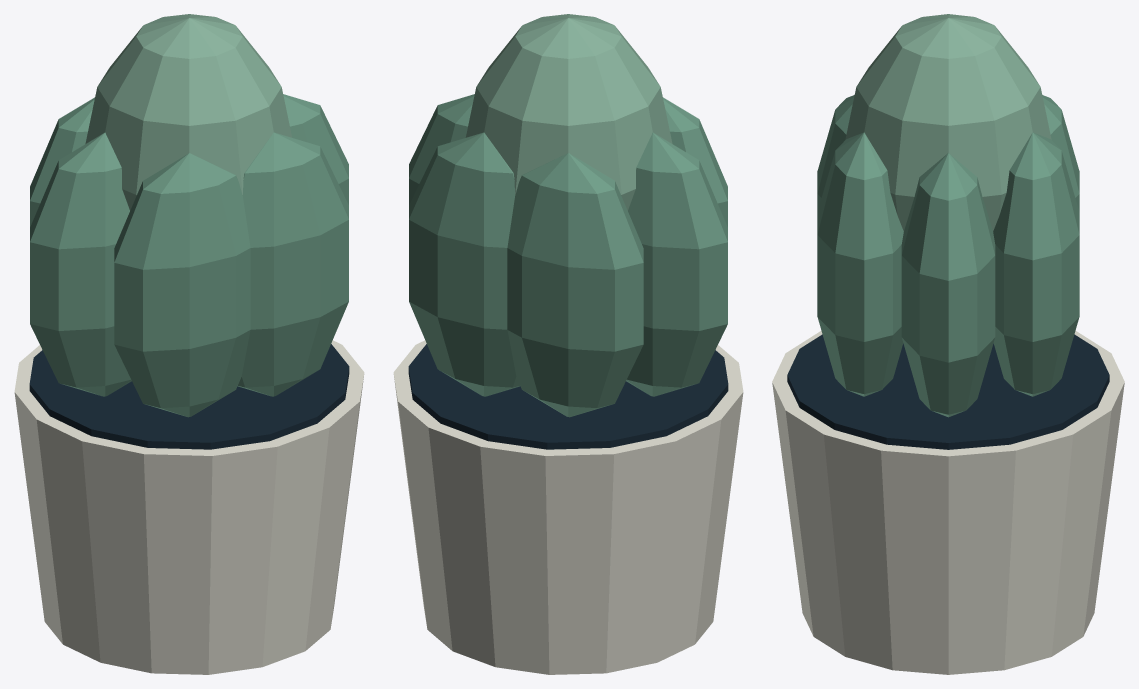
Rendered from planter.glb.
The picture shows the model from 3 angles, left to right: view 1: azimuth 30°, elevation 25°; view 2: azimuth 150°, elevation 25°; view 3: azimuth 270°, elevation 25°; orthographic projection.
Parts seen in each view (by area): view 1: leaf (×5), pot, leaf_top, soil; view 2: leaf (×5), pot, leaf_top, soil; view 3: pot, leaf (×5), leaf_top, soil.
Boxes of the visible parts, left/top/right/bottom form: leaf (×5): left=30, top=94, right=348, bottom=417; pot: left=14, top=340, right=364, bottom=674; leaf_top: left=85, top=14, right=292, bottom=210; soil: left=29, top=344, right=349, bottom=449; leaf (×5): left=409, top=94, right=727, bottom=417; pot: left=393, top=340, right=743, bottom=674; leaf_top: left=465, top=14, right=672, bottom=210; soil: left=408, top=344, right=728, bottom=449; pot: left=772, top=330, right=1124, bottom=674; leaf (×5): left=817, top=95, right=1079, bottom=417; leaf_top: left=845, top=14, right=1051, bottom=231; soil: left=787, top=334, right=1109, bottom=449.
Size of the model in its own units: 0.6053 by 1.08 by 0.58.
